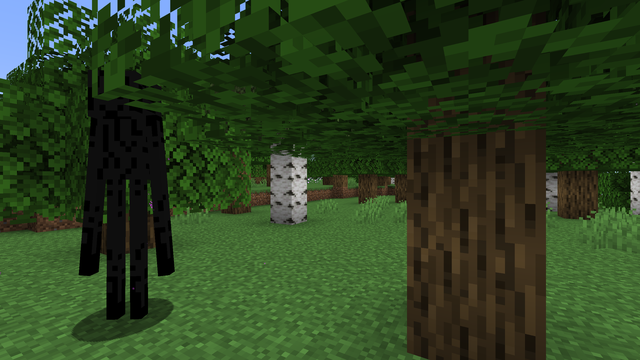endermens: (84, 65, 167, 337)
